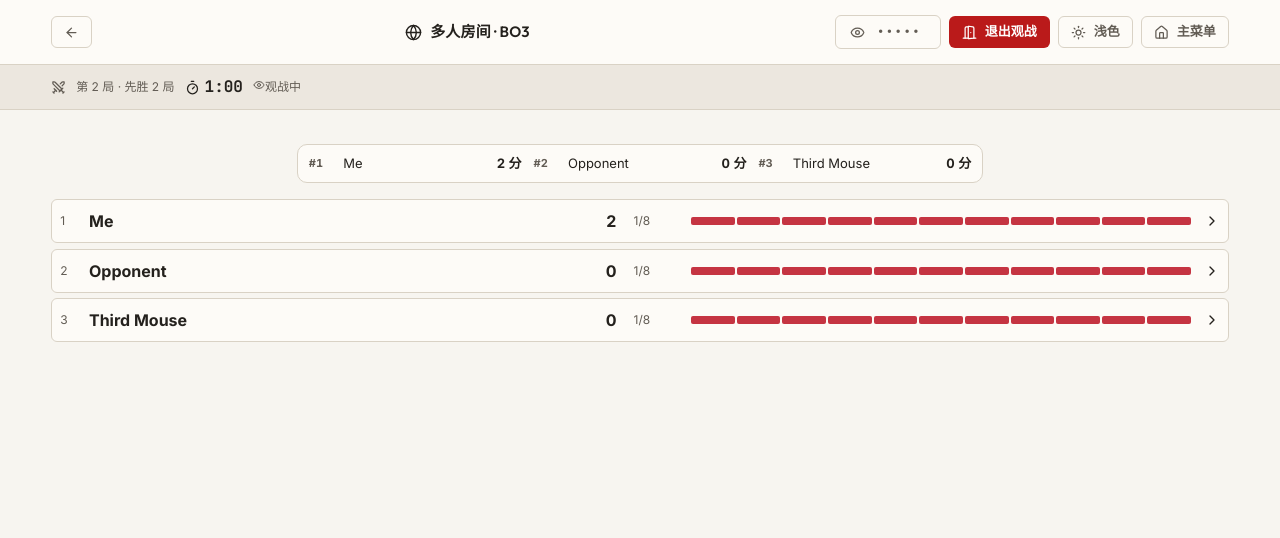
Test: MultiRoom replay › lets spectators keep multiple player boards expanded in a large classic room
Click the button "1 Me 2 1/8": click(640, 221) [52,200,1228,242]
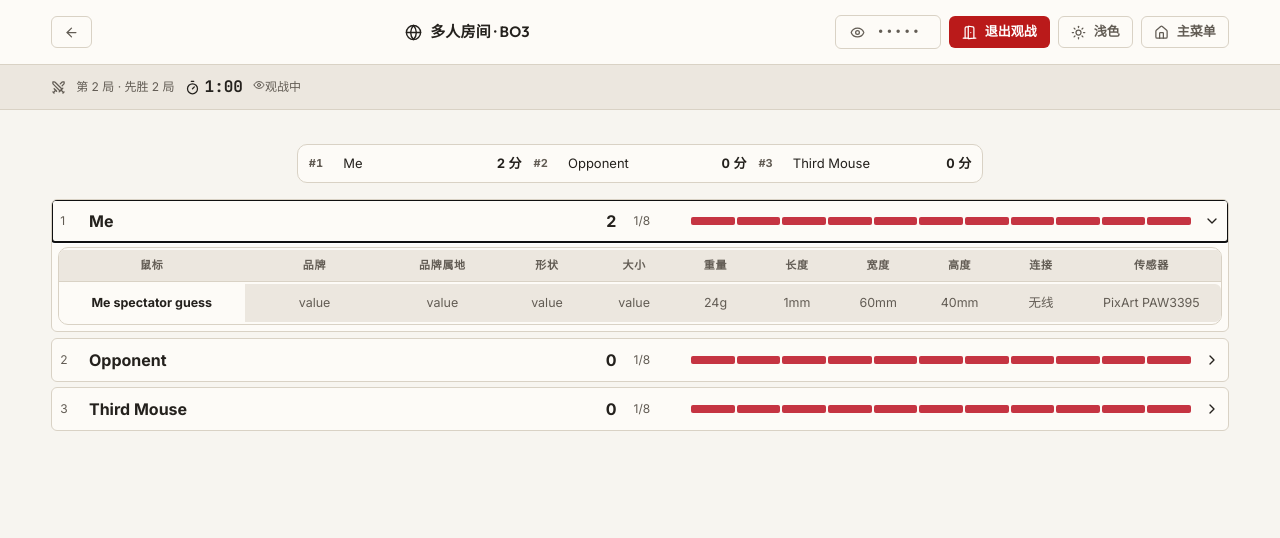
Click the button "2 Opponent 0 1/8": click(640, 360) [52,339,1228,381]
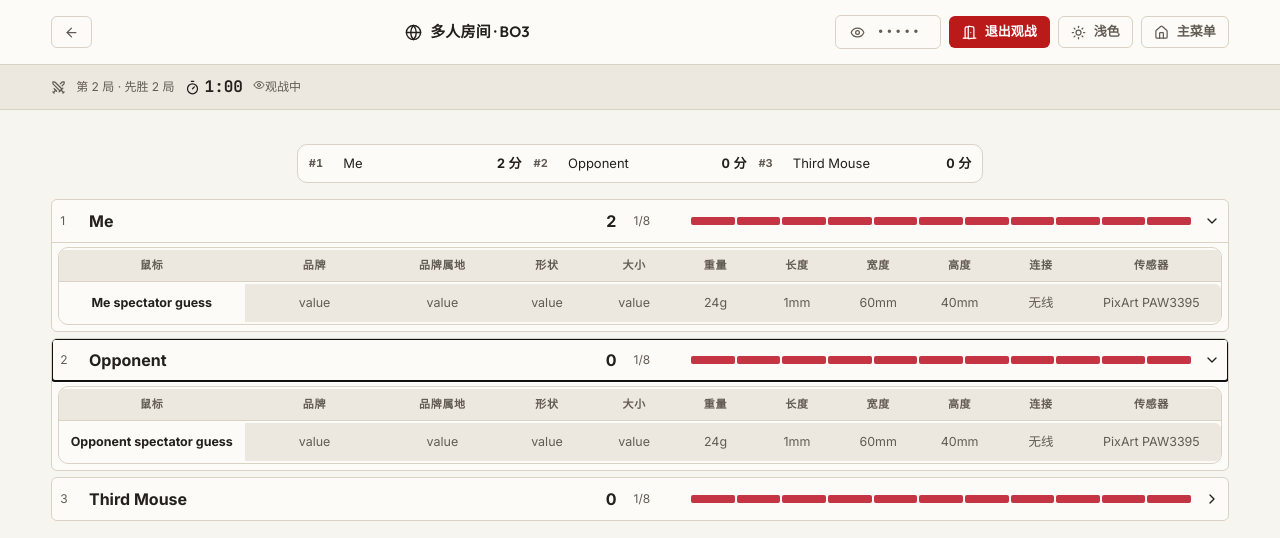
Check: the text "Me spectator guess" is shown, box [59,284,245,322]
Check: the text "Opponent spectator guess" is shown, box [59,423,245,461]
